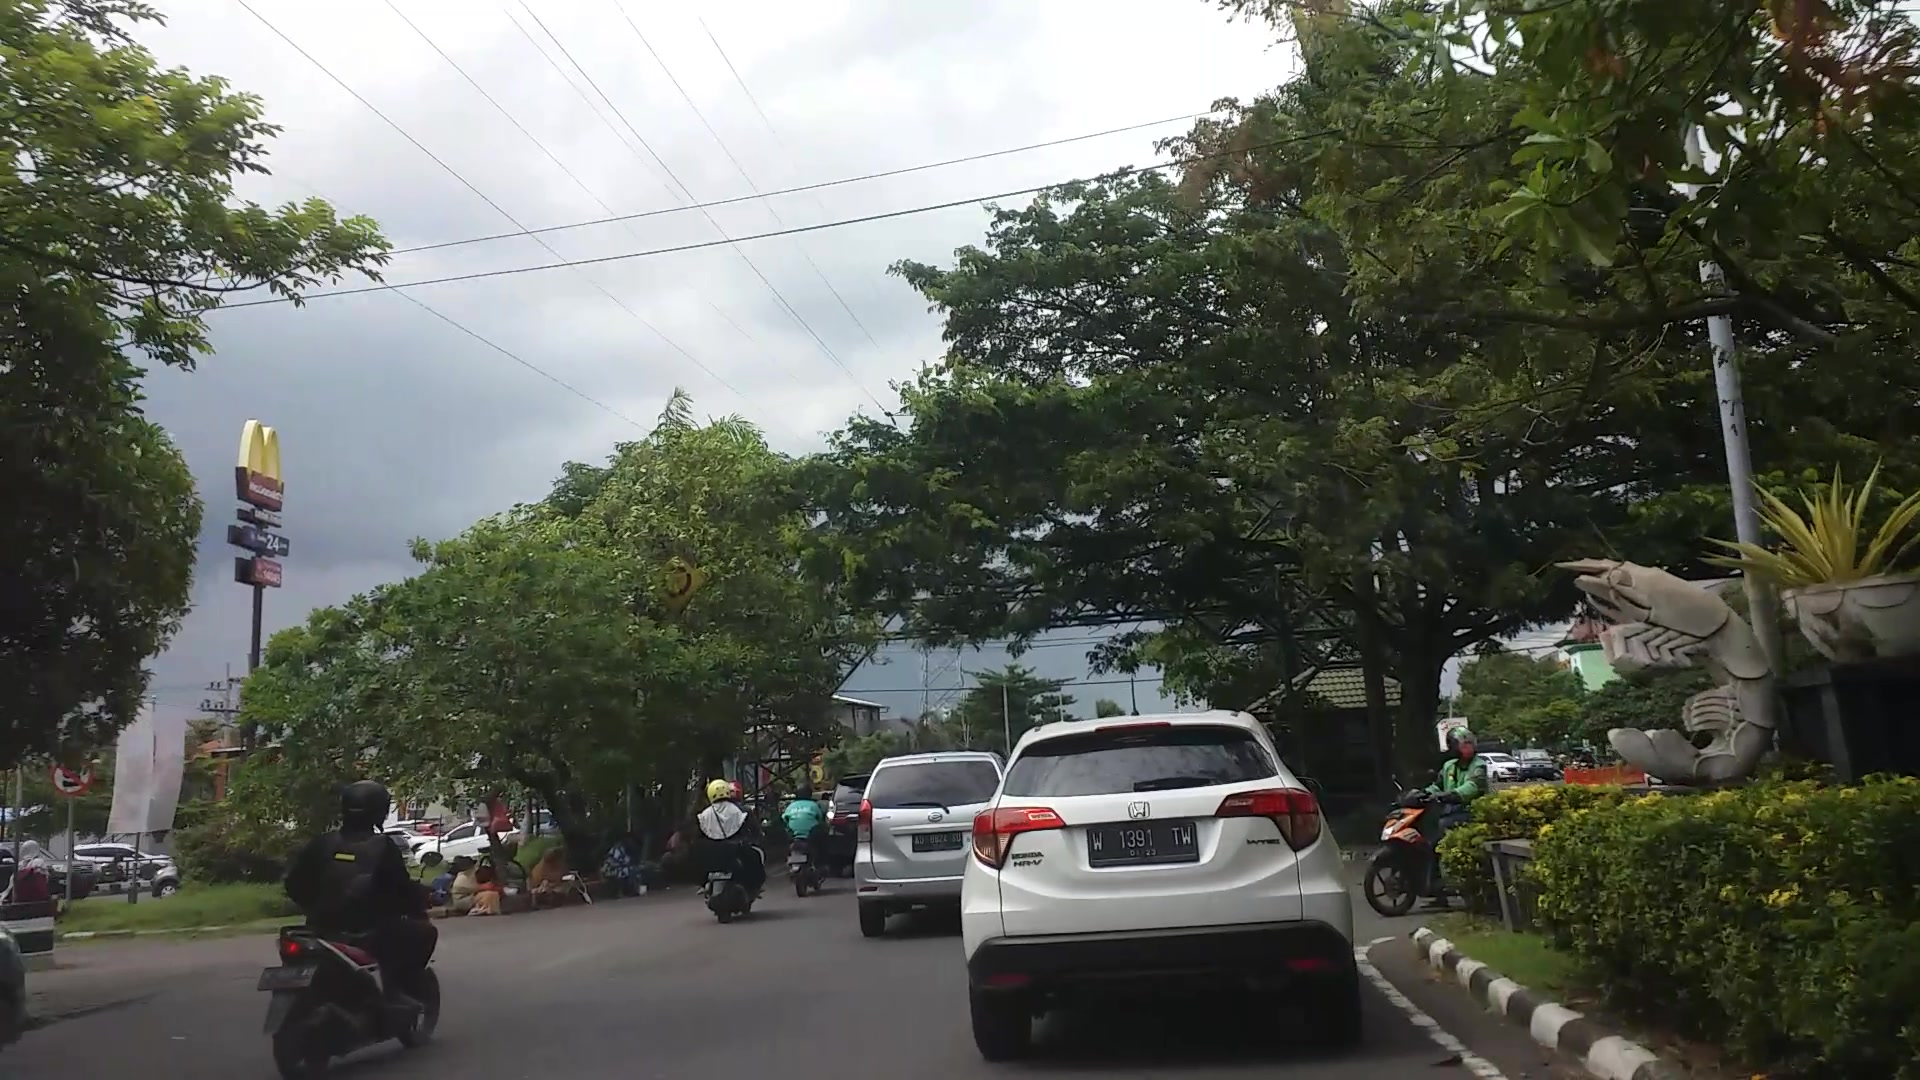plate_positive: (1087, 820, 1197, 865)
